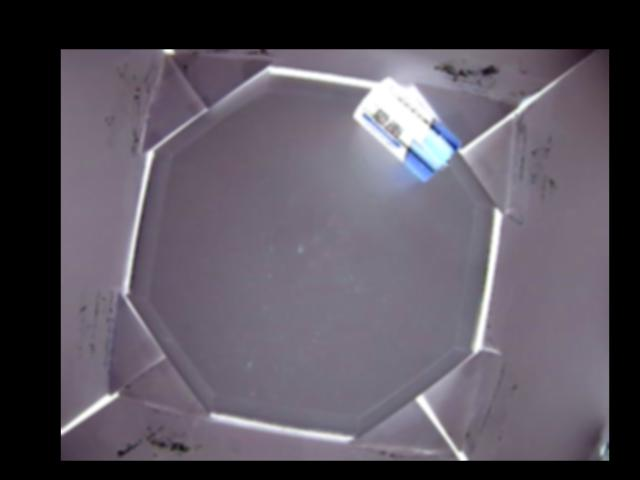Battery: (350, 77, 460, 182)
